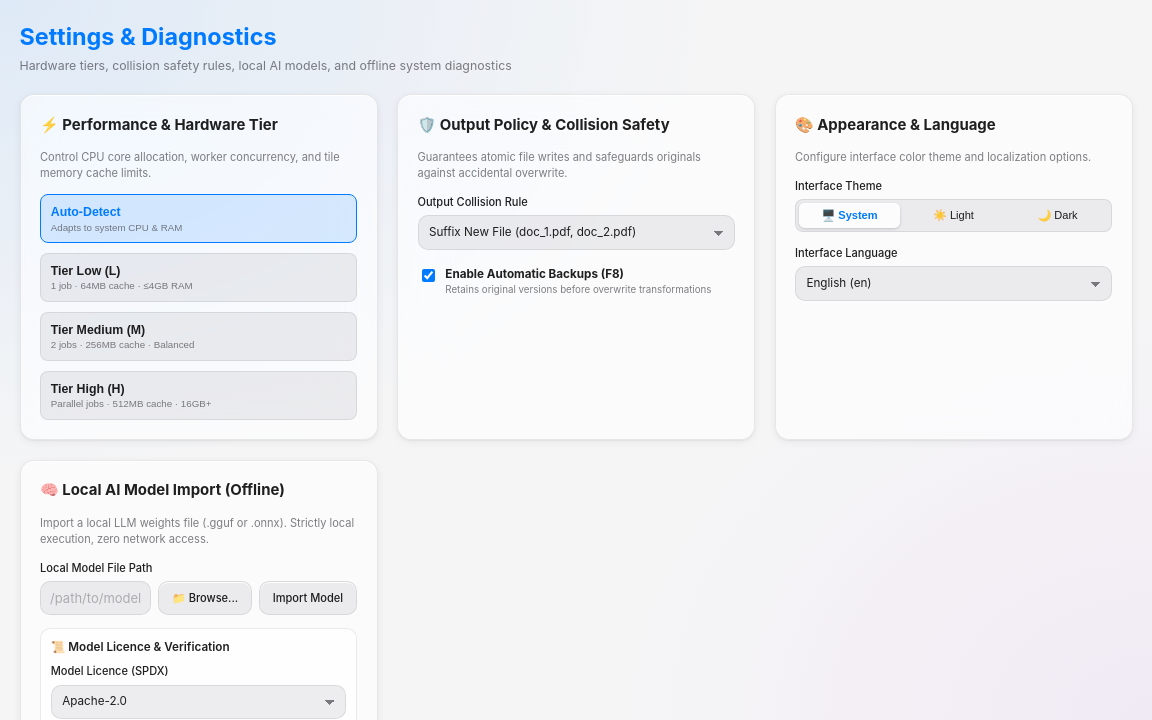
Scenario: SettingsView › allows changing tier override and theme preference then saving
Click Tier High button
Click the button with test id "tier-btn-High" at {"x": 198, "y": 395}, box [40,371,357,420]
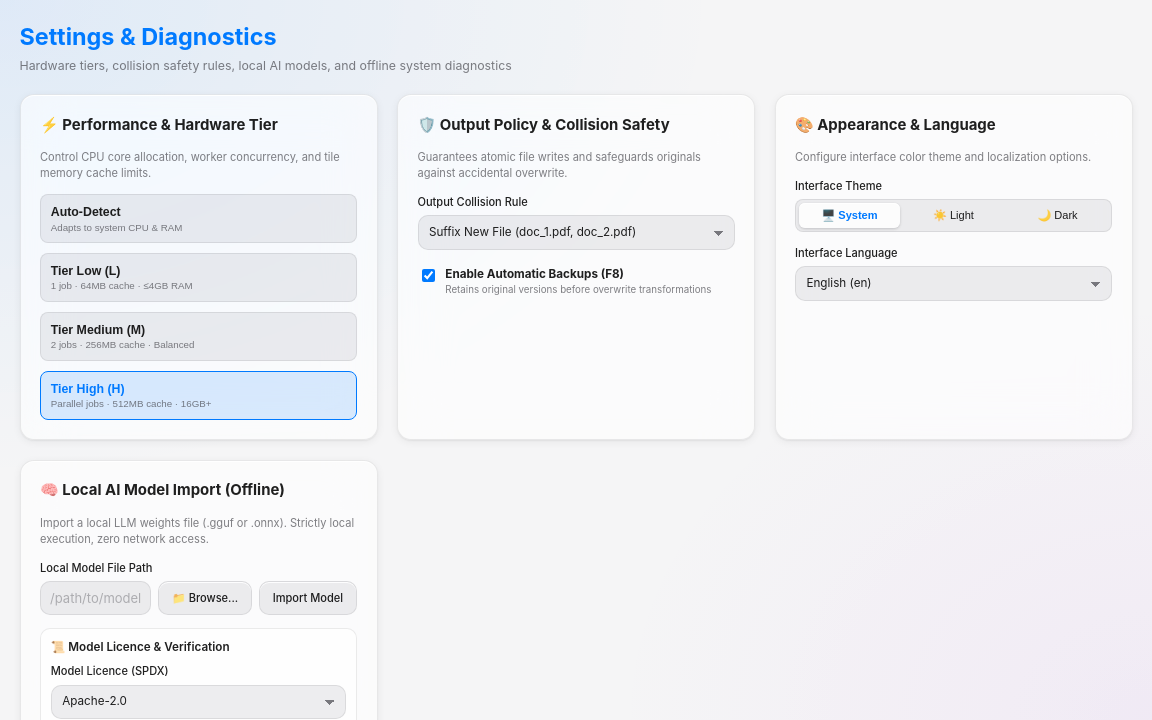
Click Dark Theme button
Click the button "🌙 Dark" at {"x": 1058, "y": 216}, box [1007,204,1108,228]
(page scrolled)
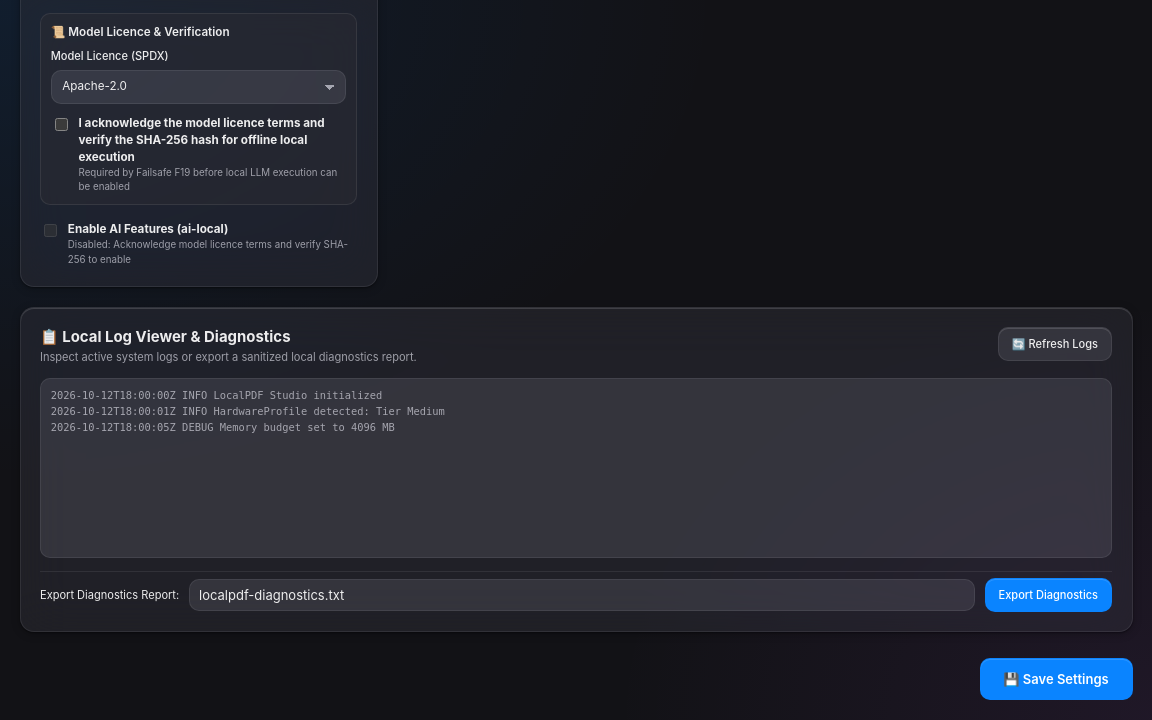
Click Save Settings button
Click the button "💾 Save Settings" at {"x": 1056, "y": 679}, box [980,658,1132,700]
(page scrolled)
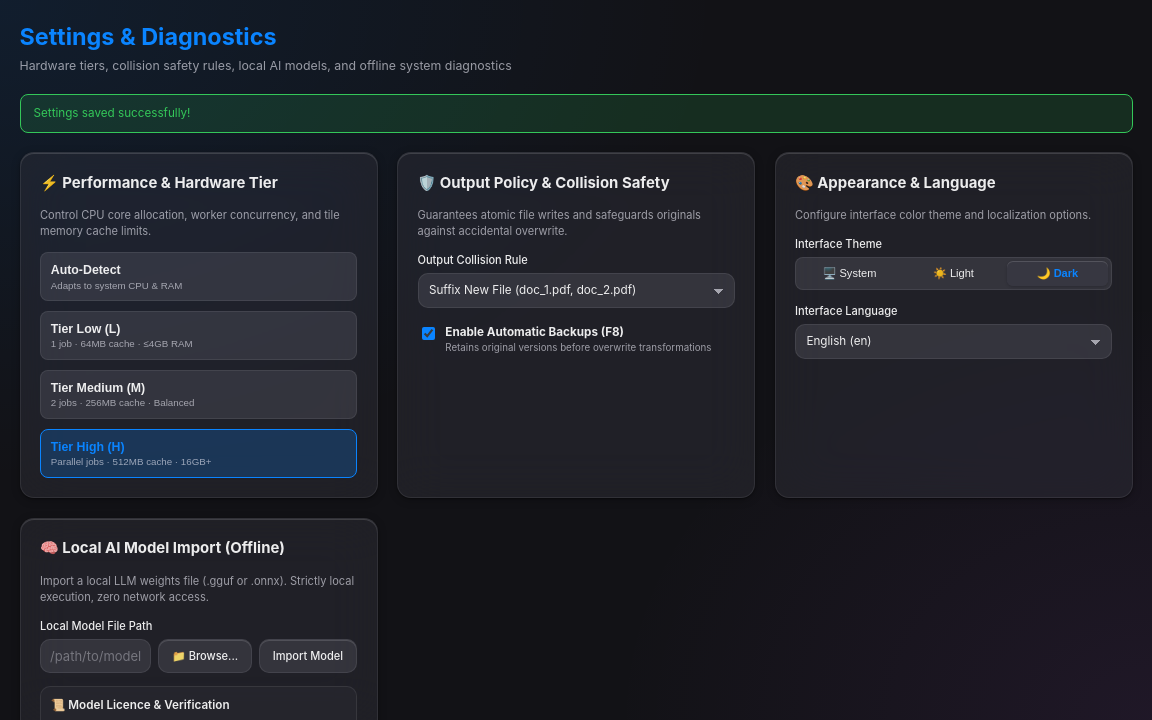
Now the text "Settings saved successfully!" is shown, box [20,94,1132,133]
